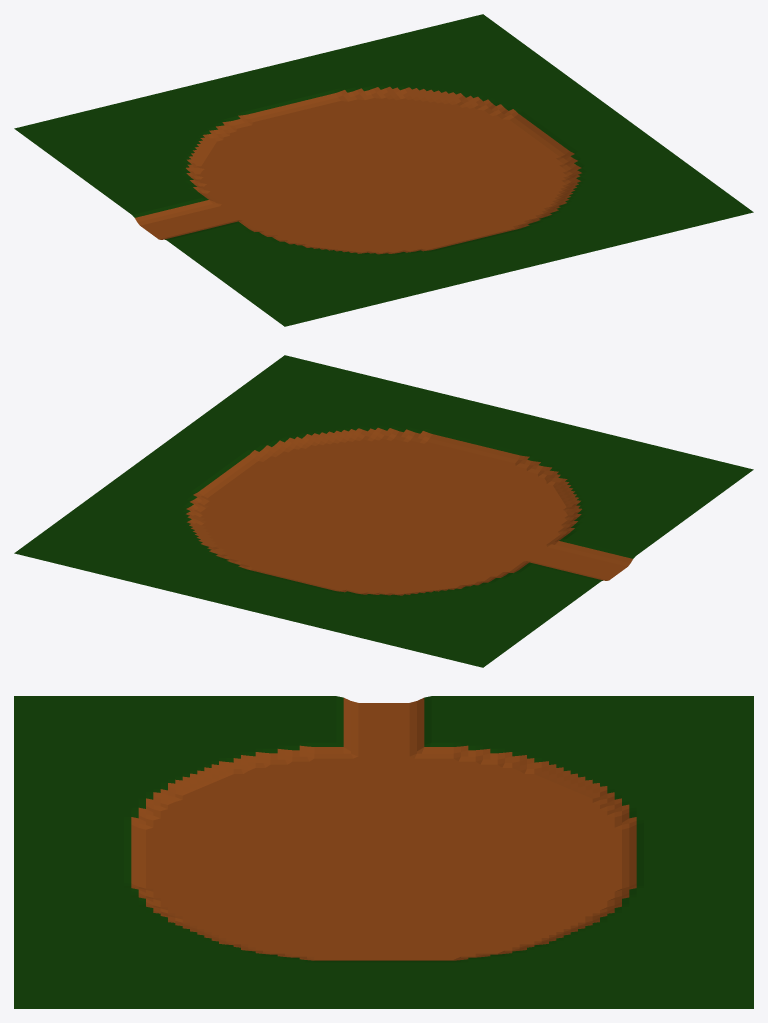
Rendered from Terrain_Part_Plane_13.fbx.
3 views of the same model, one above another, from view 1: azimuth 30°, elevation 25°; view 2: azimuth 150°, elevation 25°; view 3: azimuth 270°, elevation 25° (orthographic). The views are drawn at different scales.
Parts seen in each view (by area): view 1: Terrain_Part_Plane_13; view 2: Terrain_Part_Plane_13; view 3: Terrain_Part_Plane_13.
Boxes of the visible parts, x1,y1,x2,y2 form: Terrain_Part_Plane_13: (14, 14, 753, 326); Terrain_Part_Plane_13: (14, 355, 753, 667); Terrain_Part_Plane_13: (14, 696, 753, 1008).
Bounding box in the file's own units: 2000 × 20 × 2000.
